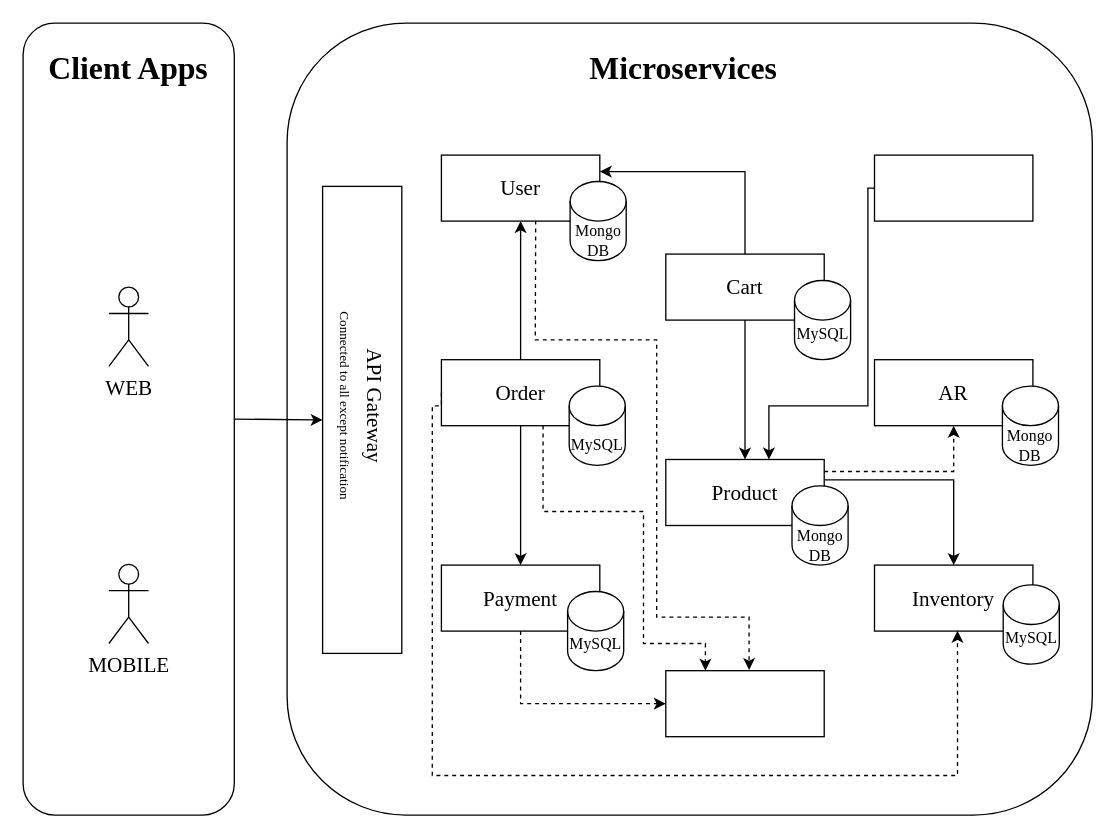
This 1115x838 diagram has some shape labels left out. The centre of each missing label's shape, as x and y in pixels:
"Notification" goes at (x=744, y=703).
"Search" goes at (x=953, y=187).
